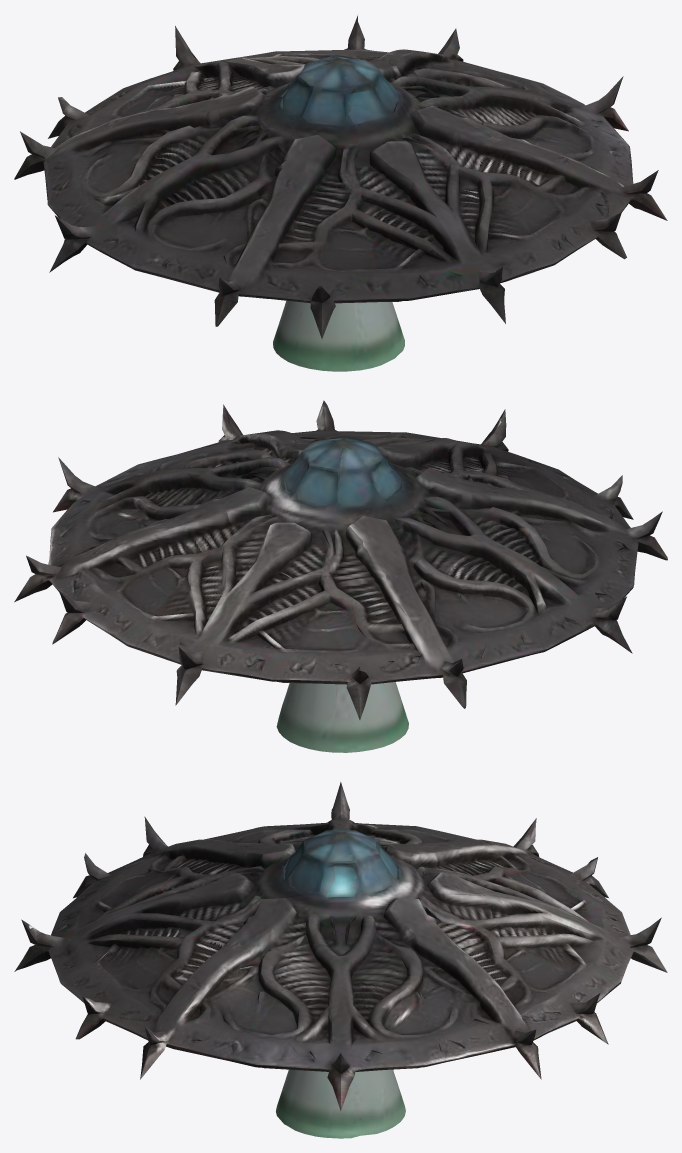
The model's file is ovni.glb.
The picture shows the model from 3 angles, top to bottom: view 1: azimuth 30°, elevation 25°; view 2: azimuth 150°, elevation 25°; view 3: azimuth 270°, elevation 25°; orthographic projection. The views are drawn at different scales.
Visible parts, largest first — view 1: tripo_node_b45a7638-7f6f-4b99-8361-19f2d8b6caef; view 2: tripo_node_b45a7638-7f6f-4b99-8361-19f2d8b6caef; view 3: tripo_node_b45a7638-7f6f-4b99-8361-19f2d8b6caef.
Boxes of the visible parts, bbox=[...] form: tripo_node_b45a7638-7f6f-4b99-8361-19f2d8b6caef: bbox=[14, 15, 667, 371]; tripo_node_b45a7638-7f6f-4b99-8361-19f2d8b6caef: bbox=[14, 400, 667, 752]; tripo_node_b45a7638-7f6f-4b99-8361-19f2d8b6caef: bbox=[14, 782, 667, 1138].
Bounding box in the file's own units: 0.9933 × 0.4615 × 0.9902.
Materials: 1 (1 with a texture image).
